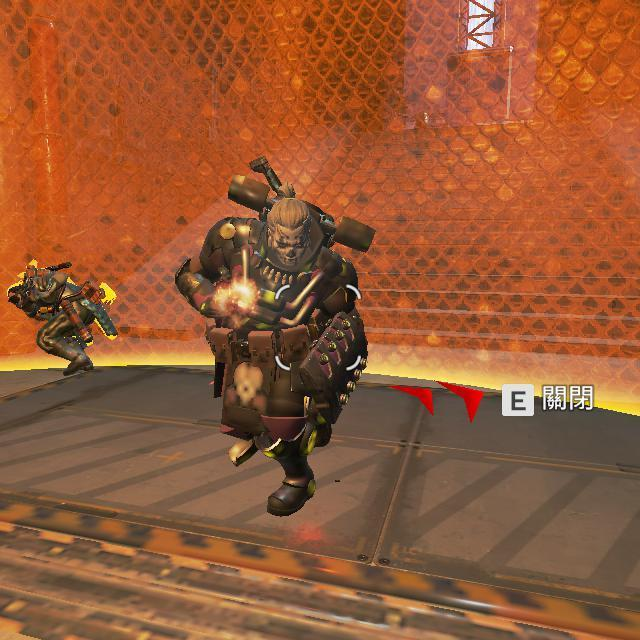avatar: (172, 194, 375, 519), (6, 255, 120, 378)
